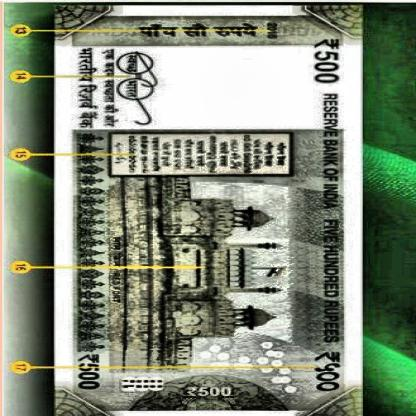Rs500: (307, 36, 350, 88), (72, 352, 106, 394)
